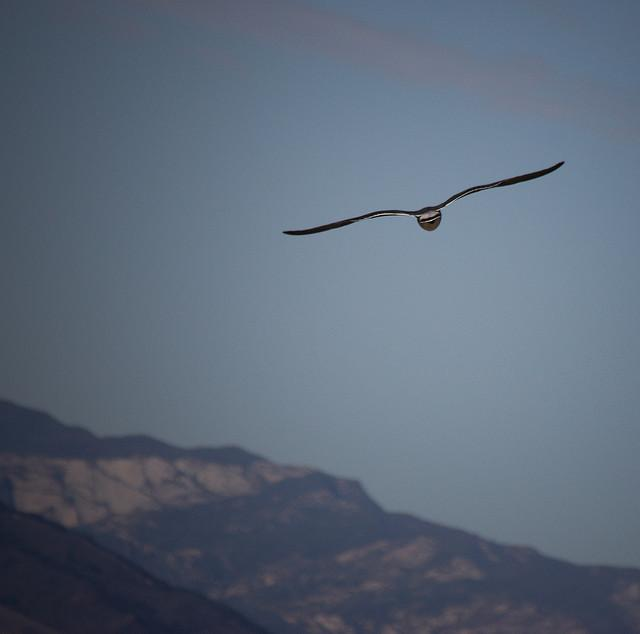bird: (278, 152, 575, 254)
